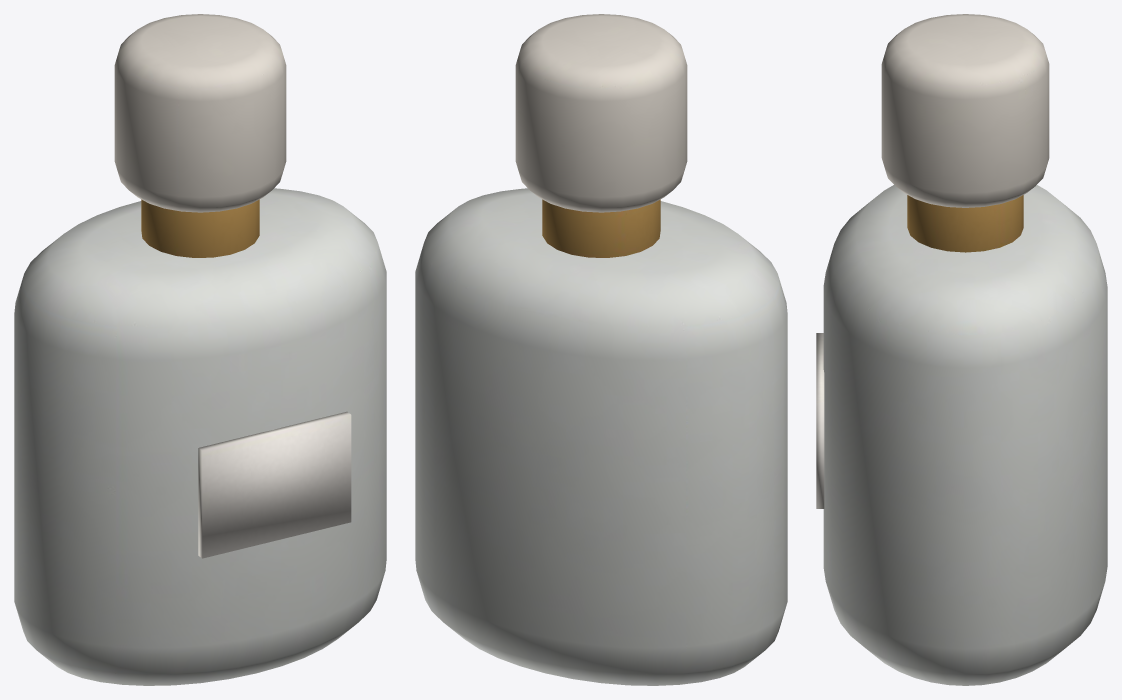
Rendered from keepsake-perfume.glb.
3 renders of one model, left to right at view 1: azimuth 30°, elevation 25°; view 2: azimuth 150°, elevation 25°; view 3: azimuth 270°, elevation 25°, orthographic. The views are drawn at different scales.
Visible parts, largest first — view 1: keepsake-perfume; view 2: keepsake-perfume; view 3: keepsake-perfume.
Part boxes in pixels (x1,y1,x2,y2): keepsake-perfume: (14, 14, 386, 685); keepsake-perfume: (415, 14, 787, 685); keepsake-perfume: (816, 14, 1107, 685).
Bounding box in the file's own units: 0.06 × 0.1 × 0.0451.
1 material, 1 textured.
